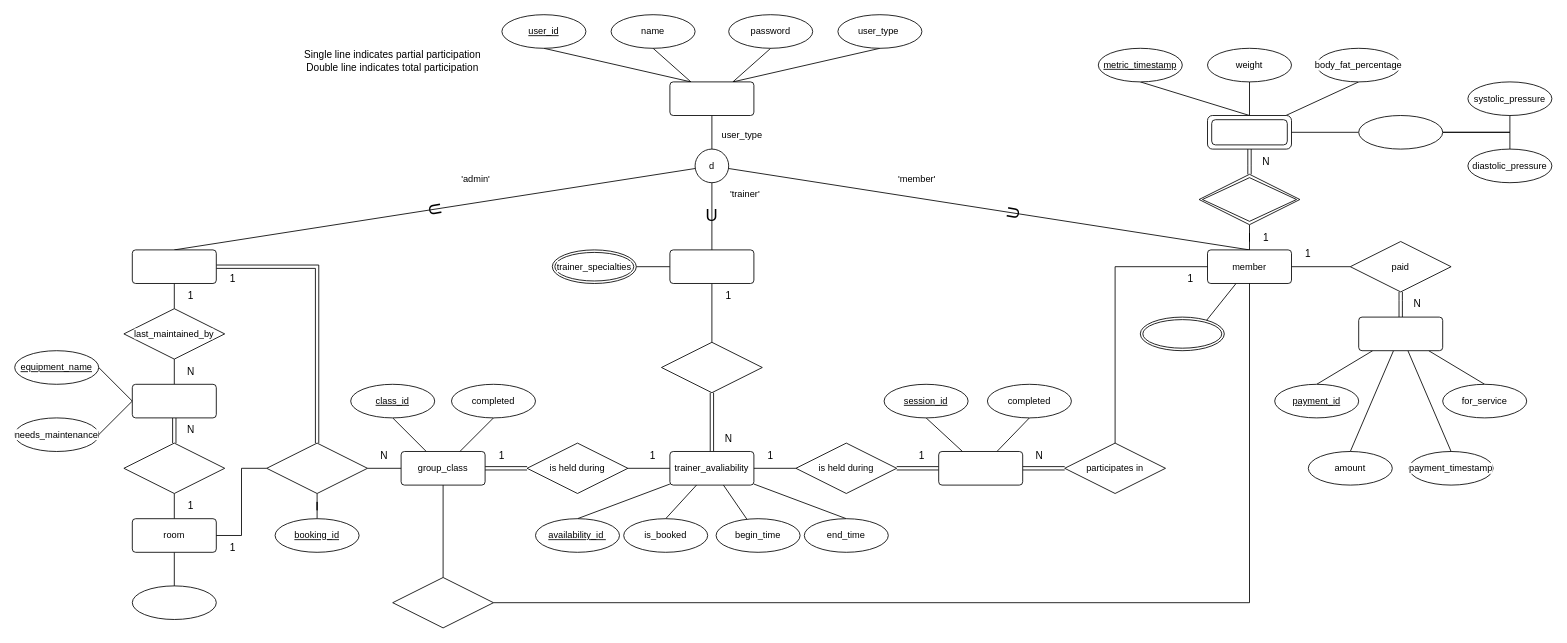
Some shapes in this 1567 by 643 pixel diagram are drawn without their labels. The shapes that lost their labels are listed below. From the top down, each one's centre as x and y in pixels, then its label:
At point 711,98: "user".
At point 1249,132: "health_metric".
At point 1400,132: "blood_pressure".
At point 1249,199: "has".
At point 173,266: "admin".
At point 711,266: "trainer".
At point 1181,333: "member_goal".
At point 1400,333: "payment".
At point 711,367: "available at".
At point 173,400: "equipment".
At point 174,468: "contains".
At point 317,468: "room_bookings".
At point 980,468: "personal_session".
At point 173,602: "description".
At point 443,602: "class_member".
